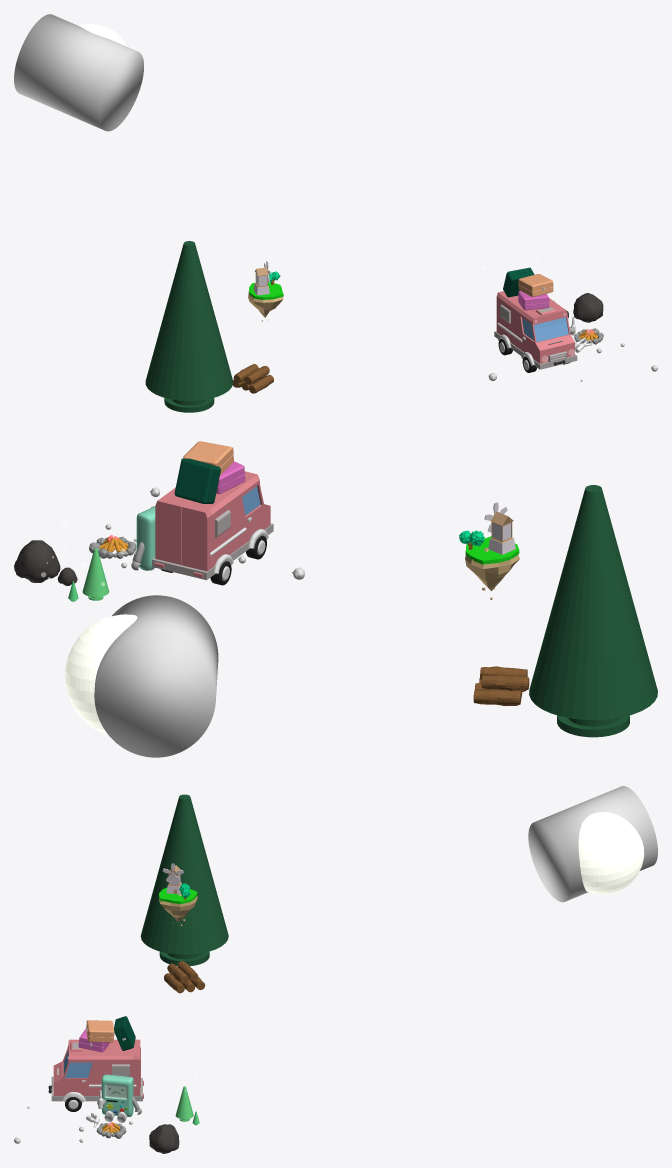
Rendered from environment.glb.
3 renders of one model, top to bottom at view 1: azimuth 30°, elevation 25°; view 2: azimuth 150°, elevation 25°; view 3: azimuth 270°, elevation 25°, orthographic. The views are drawn at different scales.
Parts seen in each view (by area): view 1: Cylinder.013, Cylinder.006, Cube, Wood.004, Cube.015, Cube.016, batu, Cube.005; view 2: Cylinder.006, Cylinder.013, Cube, Sphere.004, Wood.004, batu, Cube.007, Cube.016, Cube.014, Cube.005, Island, Mill (+5 smaller); view 3: Cylinder.006, Cylinder.013, Sphere.004, Cube, Cube.014, Wood.004, batu, Cube.005, Cube.016, Cube.007.
Boxes of the visible parts, box(x1,y1,x2,y2) form: Cylinder.013: box(14, 14, 143, 131); Cylinder.006: box(145, 241, 233, 412); Cube: box(496, 291, 574, 363); Wood.004: box(233, 364, 273, 393); Cube.015: box(522, 317, 568, 342); Cube.016: box(494, 304, 577, 369); batu: box(566, 293, 603, 322); Cube.005: box(518, 274, 553, 297); Cylinder.006: box(529, 485, 657, 737); Cylinder.013: box(94, 595, 218, 757); Cube: box(155, 471, 270, 577); Sphere.004: box(65, 614, 137, 734); Wood.004: box(473, 666, 529, 705); batu: box(14, 540, 77, 585); Cube.007: box(174, 458, 220, 503); Cube.016: box(152, 510, 273, 580); Cube.014: box(136, 506, 155, 570); Cube.005: box(183, 441, 233, 474); Island: box(465, 547, 519, 599); Mill: box(488, 511, 515, 554); Cylinder.006: box(140, 794, 228, 966); Cylinder.013: box(528, 786, 657, 902); Sphere.004: box(578, 812, 644, 894); Cube: box(53, 1039, 143, 1098); Cube.014: box(101, 1074, 133, 1116); Wood.004: box(164, 961, 205, 993); batu: box(149, 1124, 179, 1153); Cube.005: box(86, 1020, 114, 1042); Cube.016: box(51, 1042, 142, 1101); Cube.007: box(114, 1016, 135, 1050).
Size of what is drawn, in the model's own units: 24.99 by 11.4 by 31.62.
